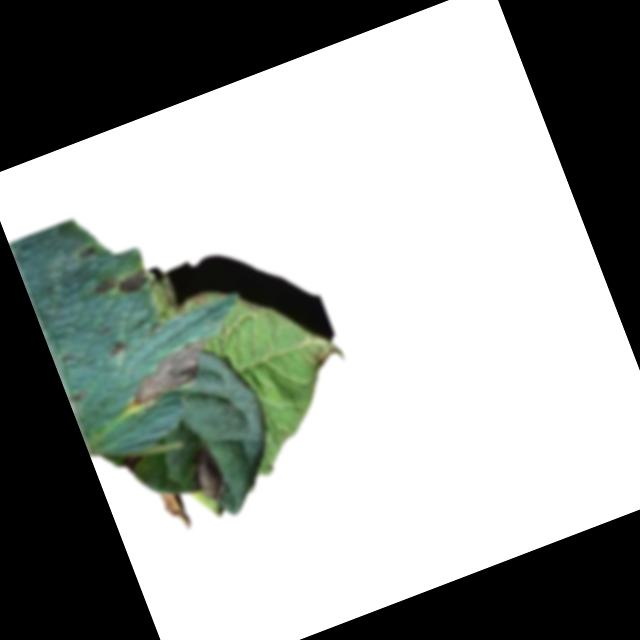Early_blight: (117, 333, 221, 408), (187, 444, 230, 502), (91, 263, 151, 304), (161, 488, 193, 534), (107, 337, 130, 359)
